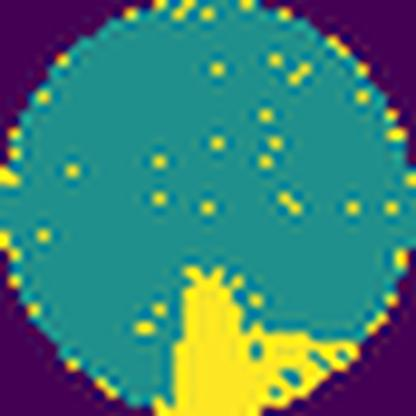Edge-Loc: (155, 258, 355, 416)
